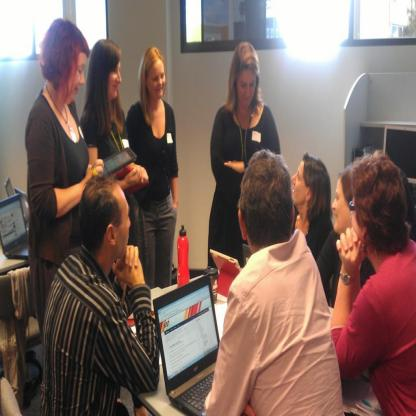board: (152, 274, 220, 416), (0, 194, 29, 260), (177, 224, 189, 286), (14, 188, 30, 225), (242, 244, 252, 268), (5, 177, 14, 196)
